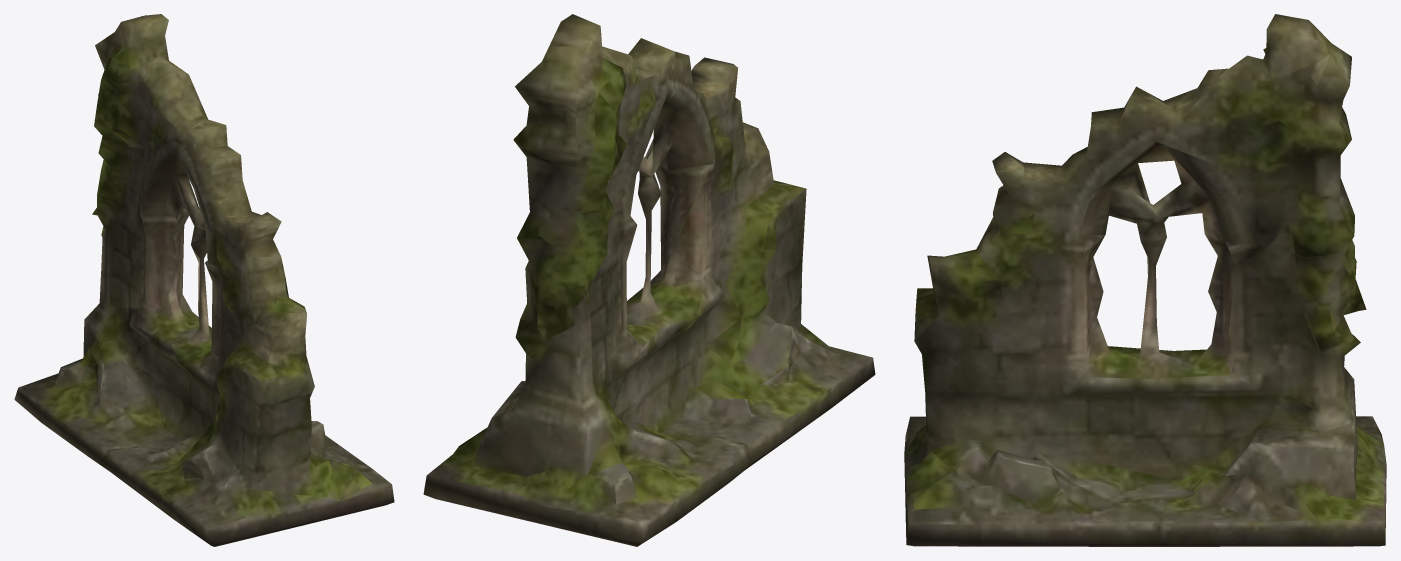
File: ruins_wall_lod1.glb
The picture shows the model from 3 angles, left to right: view 1: azimuth 30°, elevation 25°; view 2: azimuth 150°, elevation 25°; view 3: azimuth 270°, elevation 25°; orthographic projection. The views are drawn at different scales.
Visible parts, largest first — view 1: ruins_wall_lod1; view 2: ruins_wall_lod1; view 3: ruins_wall_lod1.
Part boxes in pixels (<box>): ruins_wall_lod1: <box>14,14,394,546</box>; ruins_wall_lod1: <box>423,14,875,546</box>; ruins_wall_lod1: <box>904,14,1386,546</box>.
Bounding box in the file's own units: 1.71 × 3.47 × 3.19.
1 material, 1 textured.
